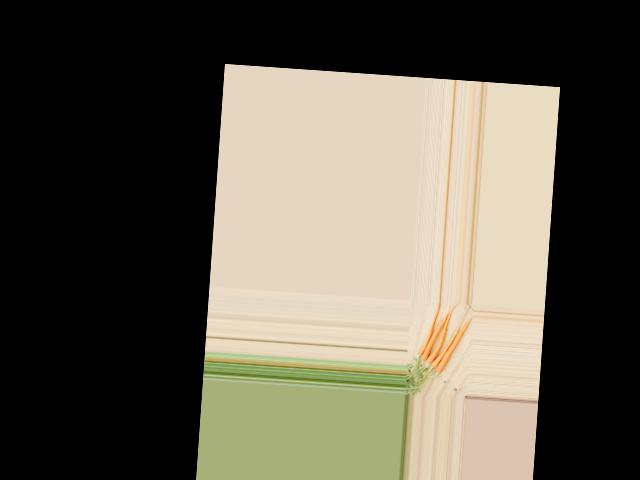carrot: (416, 302, 441, 356)
